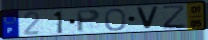1: (53, 10, 65, 34)
2: (23, 11, 43, 37)
O: (104, 8, 127, 32)
P: (75, 9, 102, 34)
V: (134, 6, 160, 31)
Z: (160, 4, 188, 30)
